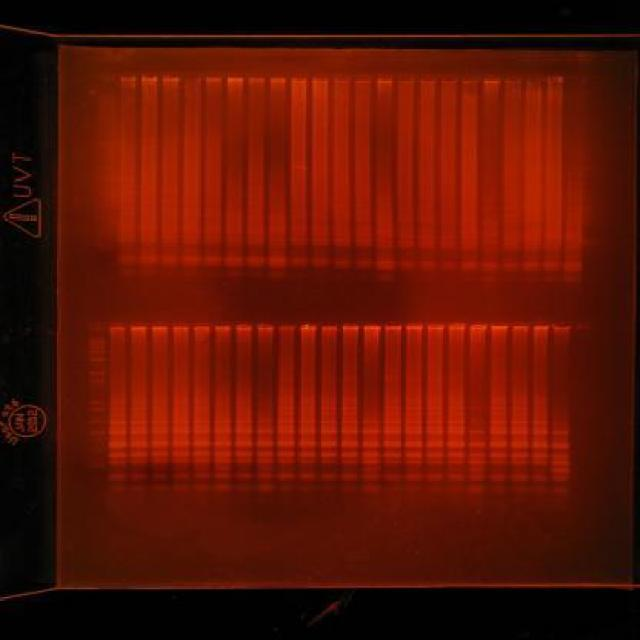B: (466, 482, 488, 496), (488, 482, 510, 496), (444, 482, 466, 496), (509, 484, 531, 496), (551, 485, 571, 498), (256, 481, 276, 494), (373, 273, 396, 284), (232, 482, 254, 493), (530, 484, 550, 496), (444, 472, 466, 482), (424, 483, 444, 494), (360, 483, 380, 494), (232, 438, 254, 448), (136, 268, 158, 278), (202, 269, 222, 280), (246, 269, 266, 280), (213, 482, 232, 493), (318, 483, 337, 494), (296, 472, 316, 482), (276, 438, 296, 448), (509, 473, 531, 482), (424, 439, 446, 448), (340, 483, 358, 494), (562, 274, 584, 283), (223, 270, 244, 279), (244, 255, 267, 263), (128, 484, 148, 493), (382, 484, 402, 493), (296, 484, 316, 493), (522, 274, 540, 284), (550, 467, 572, 475), (549, 474, 571, 482), (466, 474, 488, 482), (488, 440, 510, 448), (486, 473, 508, 481), (232, 472, 254, 480), (266, 256, 288, 264), (222, 262, 244, 270), (310, 257, 332, 265), (108, 484, 127, 493), (268, 271, 287, 280), (192, 483, 210, 492), (107, 458, 127, 466), (550, 459, 570, 467), (550, 442, 570, 450), (129, 458, 149, 466), (529, 452, 549, 460), (530, 459, 550, 467), (530, 474, 550, 482), (468, 458, 488, 466), (446, 458, 466, 466), (424, 473, 444, 481), (424, 458, 444, 466), (403, 473, 423, 481), (404, 485, 424, 493), (403, 440, 423, 448), (212, 439, 232, 447), (192, 464, 212, 472), (192, 440, 212, 448), (171, 440, 191, 448), (382, 440, 402, 448), (382, 472, 402, 480), (149, 484, 169, 492), (339, 440, 359, 448), (318, 440, 338, 448), (254, 472, 274, 480), (233, 457, 253, 465), (138, 253, 158, 261), (182, 270, 202, 278), (540, 274, 560, 282), (267, 242, 287, 250), (508, 441, 530, 448), (486, 452, 508, 459), (444, 451, 466, 458), (444, 441, 466, 448), (424, 451, 446, 458), (222, 255, 244, 262), (108, 474, 127, 482), (213, 472, 232, 480), (192, 457, 211, 465), (318, 458, 337, 466), (318, 472, 337, 480), (255, 440, 274, 448), (255, 458, 274, 466), (130, 473, 148, 481), (172, 484, 190, 492), (362, 458, 380, 466), (150, 473, 168, 481), (150, 464, 168, 472), (150, 450, 168, 458), (150, 440, 168, 448), (298, 439, 316, 447), (340, 473, 358, 481), (278, 484, 294, 493), (480, 274, 498, 282), (460, 274, 478, 282), (107, 451, 127, 458), (108, 441, 128, 448), (129, 451, 149, 458), (129, 441, 149, 448), (530, 442, 550, 449), (509, 452, 529, 459), (467, 442, 487, 449), (170, 472, 190, 479), (361, 441, 381, 448), (244, 263, 267, 269), (244, 230, 267, 236), (277, 472, 294, 480), (277, 458, 294, 466), (117, 268, 134, 276), (360, 474, 382, 480), (232, 451, 254, 457), (136, 260, 158, 266), (180, 256, 202, 262), (202, 256, 224, 262), (202, 262, 224, 268), (562, 262, 584, 268), (562, 268, 584, 274), (562, 254, 584, 260), (266, 263, 288, 269), (374, 258, 396, 264), (374, 266, 396, 272), (540, 262, 562, 268), (458, 266, 480, 272), (340, 451, 358, 458), (223, 234, 244, 240), (223, 240, 244, 246), (551, 454, 571, 460), (550, 430, 570, 436), (108, 431, 128, 437), (530, 430, 550, 436), (509, 460, 529, 466), (509, 430, 529, 436), (467, 467, 487, 473), (468, 452, 488, 458), (488, 458, 508, 464), (403, 458, 423, 464), (403, 452, 423, 458), (212, 466, 232, 472), (212, 451, 232, 457), (192, 451, 212, 457), (192, 424, 212, 430), (170, 458, 190, 464), (170, 451, 190, 457), (382, 452, 402, 458), (360, 452, 380, 458), (150, 458, 170, 464), (150, 430, 170, 436), (150, 418, 170, 424), (297, 452, 317, 458), (276, 452, 296, 458), (254, 452, 274, 458), (116, 254, 136, 260), (116, 260, 136, 266), (117, 238, 137, 244), (159, 261, 179, 267), (160, 234, 180, 240), (182, 234, 202, 240), (202, 230, 222, 236), (202, 234, 222, 240), (563, 236, 583, 242), (376, 238, 396, 244), (354, 242, 374, 248), (396, 244, 416, 250), (396, 234, 416, 240), (310, 236, 330, 242), (289, 257, 309, 263), (309, 264, 329, 270), (223, 230, 243, 236), (268, 236, 288, 242), (288, 240, 308, 246), (288, 236, 308, 242), (353, 258, 373, 264), (541, 267, 561, 273), (522, 236, 542, 242), (522, 240, 542, 246), (522, 246, 542, 252), (500, 267, 520, 273), (481, 248, 501, 254), (459, 240, 479, 246), (458, 244, 478, 250), (458, 260, 478, 266), (480, 261, 500, 267), (480, 267, 500, 273), (108, 400, 127, 406), (108, 406, 127, 412), (213, 418, 232, 424), (213, 424, 232, 430), (298, 424, 317, 430), (318, 452, 337, 458), (318, 428, 337, 434), (318, 410, 337, 416), (255, 466, 274, 472), (234, 424, 253, 430), (138, 238, 157, 244), (246, 240, 265, 246), (333, 258, 352, 264), (542, 254, 561, 260), (502, 240, 521, 246), (444, 430, 466, 435), (444, 425, 466, 430), (444, 419, 466, 424), (115, 229, 137, 234), (180, 262, 202, 267), (354, 233, 376, 238), (288, 232, 310, 237), (214, 458, 232, 464), (192, 473, 210, 479), (172, 428, 190, 434), (172, 418, 190, 424), (382, 458, 400, 464), (362, 466, 380, 472), (298, 458, 316, 464), (298, 418, 316, 424), (298, 410, 316, 416), (340, 458, 358, 464), (340, 410, 358, 416), (234, 418, 252, 424), (160, 256, 178, 262), (334, 263, 352, 269), (355, 263, 373, 269), (418, 244, 436, 250), (418, 234, 436, 240), (544, 236, 562, 242), (522, 262, 540, 268), (522, 267, 540, 273), (398, 266, 416, 272), (233, 429, 254, 434), (256, 418, 273, 424), (256, 428, 273, 434), (108, 426, 128, 431), (108, 420, 128, 425), (530, 420, 550, 425), (509, 426, 529, 431), (488, 430, 508, 435), (488, 425, 508, 430), (488, 420, 508, 425), (424, 430, 444, 435), (424, 425, 444, 430), (424, 419, 444, 424), (550, 420, 570, 425), (403, 430, 423, 435), (404, 419, 424, 424), (382, 419, 402, 424), (192, 419, 212, 424), (381, 425, 401, 430), (150, 425, 170, 430), (340, 430, 360, 435), (340, 419, 360, 424), (276, 430, 296, 435), (276, 425, 296, 430), (160, 239, 180, 244), (160, 230, 180, 235), (182, 239, 202, 244), (182, 230, 202, 235), (202, 240, 222, 245), (310, 242, 330, 247), (332, 233, 352, 238), (332, 242, 352, 247), (246, 236, 266, 241), (417, 240, 437, 245), (542, 246, 562, 251), (500, 262, 520, 267), (502, 236, 522, 241), (459, 235, 479, 240), (438, 235, 458, 240), (482, 240, 498, 246), (398, 260, 414, 266), (129, 430, 148, 435), (129, 420, 148, 425), (509, 420, 528, 425), (383, 406, 402, 411), (213, 429, 232, 434), (192, 430, 211, 435), (276, 405, 295, 410), (298, 429, 317, 434), (318, 425, 337, 430), (318, 419, 337, 424), (319, 405, 338, 410), (312, 232, 331, 237), (289, 263, 308, 268), (438, 240, 457, 245), (438, 266, 457, 271), (468, 430, 486, 435), (468, 419, 486, 424), (490, 406, 508, 411), (490, 400, 508, 405), (447, 400, 465, 405), (382, 430, 400, 435), (362, 430, 380, 435), (362, 419, 380, 424), (564, 246, 582, 251), (397, 239, 415, 244), (502, 245, 520, 250), (440, 245, 458, 250), (418, 266, 436, 271), (353, 238, 375, 242), (277, 419, 294, 424), (532, 426, 548, 431), (488, 412, 508, 416), (341, 406, 357, 411), (278, 396, 294, 401), (116, 234, 136, 238), (138, 234, 158, 238), (563, 242, 583, 246), (332, 238, 352, 242), (542, 242, 562, 246), (108, 398, 127, 402), (268, 232, 287, 236), (447, 412, 465, 416), (426, 412, 444, 416), (404, 412, 422, 416), (376, 234, 394, 238), (417, 262, 435, 266), (439, 262, 456, 266), (532, 398, 548, 402), (403, 426, 423, 429), (129, 427, 148, 430), (509, 407, 528, 410), (509, 401, 528, 404), (509, 397, 528, 400), (192, 406, 211, 409), (319, 397, 338, 400), (532, 401, 550, 404), (468, 407, 486, 410), (447, 407, 465, 410), (446, 397, 464, 400), (426, 407, 444, 410), (426, 400, 444, 403), (426, 397, 444, 400), (404, 407, 422, 410), (404, 396, 422, 399), (382, 397, 400, 400), (172, 407, 190, 410), (150, 406, 168, 409), (298, 407, 316, 410), (298, 397, 316, 400), (340, 426, 358, 429), (235, 401, 252, 404), (342, 397, 358, 400), (129, 408, 148, 410), (192, 398, 211, 400), (490, 398, 508, 400), (172, 426, 190, 428), (172, 398, 190, 400), (426, 378, 443, 380), (235, 412, 252, 414), (532, 408, 548, 410), (406, 378, 422, 380), (342, 378, 358, 380), (278, 378, 294, 380), (384, 378, 400, 380)
L: (89, 66, 589, 88), (78, 318, 600, 334)
M: (94, 88, 118, 278), (84, 334, 108, 494)
P: (96, 243, 116, 251), (95, 203, 116, 209), (86, 430, 106, 436), (94, 164, 114, 170), (88, 462, 106, 468), (88, 356, 105, 362), (88, 446, 105, 452), (94, 190, 114, 195), (96, 107, 116, 110), (96, 115, 115, 118), (96, 141, 115, 144), (96, 94, 115, 97), (96, 102, 115, 105), (88, 420, 106, 423), (88, 400, 105, 403), (88, 350, 104, 353), (96, 132, 115, 134), (88, 408, 105, 410), (88, 380, 105, 382), (88, 372, 105, 374), (88, 346, 104, 348), (88, 344, 104, 346)
Pc: (550, 321, 572, 332), (510, 321, 532, 332), (95, 70, 116, 81), (296, 322, 318, 332), (572, 321, 592, 332), (268, 72, 288, 83), (288, 72, 308, 83), (234, 322, 254, 332), (460, 74, 480, 84), (438, 74, 458, 84), (106, 322, 128, 331), (128, 322, 150, 331), (170, 322, 192, 331), (488, 321, 510, 330), (500, 74, 522, 83), (255, 322, 274, 332), (118, 72, 137, 82), (183, 72, 202, 82), (213, 322, 233, 331), (276, 323, 296, 332), (482, 74, 500, 84), (417, 74, 437, 83), (396, 74, 416, 83), (148, 322, 170, 330), (532, 322, 551, 331), (247, 73, 266, 82), (85, 322, 106, 330), (162, 73, 180, 82), (204, 73, 222, 82), (312, 74, 330, 83), (332, 74, 350, 83), (376, 74, 394, 83), (468, 322, 488, 330), (362, 323, 382, 331), (340, 322, 360, 330), (139, 73, 159, 81), (566, 76, 586, 84), (524, 75, 544, 83), (445, 322, 467, 329), (403, 322, 425, 329), (192, 323, 211, 331), (546, 75, 565, 83), (225, 74, 244, 82), (320, 323, 338, 331), (354, 74, 372, 82), (426, 322, 446, 329), (382, 322, 402, 329)
